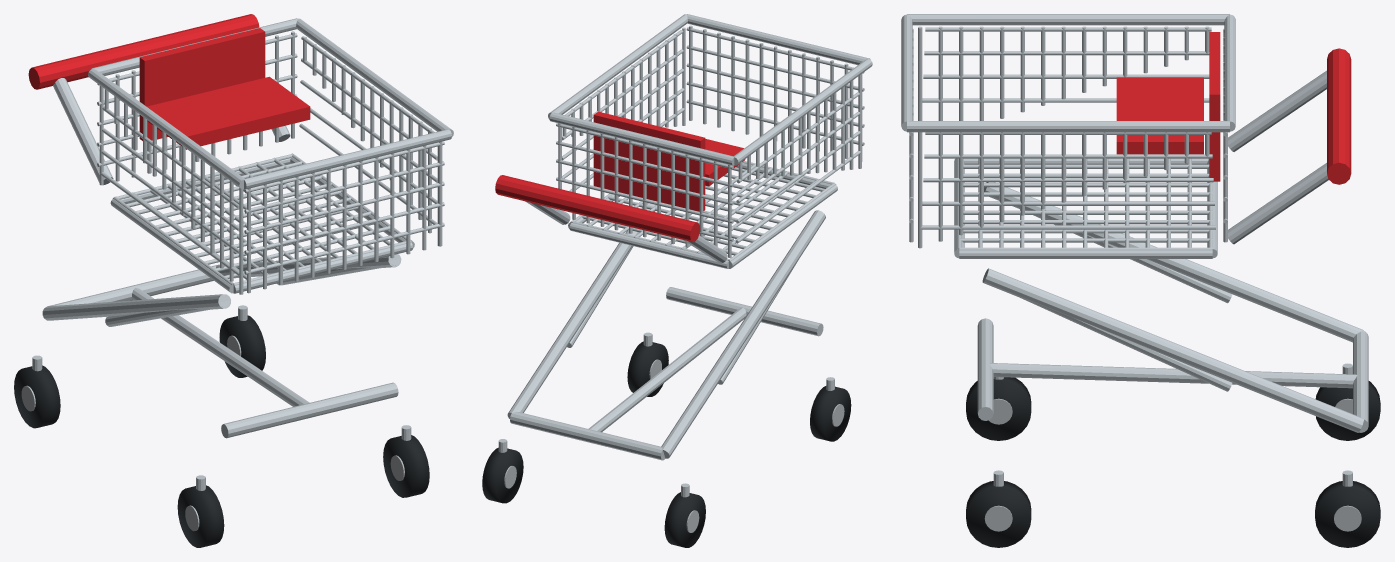
Rendered from carrito.glb.
3 views of the same model, side by side, from view 1: azimuth 30°, elevation 25°; view 2: azimuth 150°, elevation 25°; view 3: azimuth 270°, elevation 25° (orthographic). The views are drawn at different scales.
Parts seen in each view (by area): view 1: Respaldo_Infantil, Asiento_Infantil, Manubrio_Rojo, Chasis_Frontal, Chasis_Lateral, Borde_Superior_Extremo, Chasis_Central, Rueda_FR, Borde_Superior_Lateral, Rueda_BL, Rueda_FL, Borde_Superior_Lateral.001 (+27 smaller); view 2: Respaldo_Infantil, Manubrio_Rojo, Chasis_Lateral, Chasis_Lateral.001, Chasis_Central, Chasis_Trasero, Borde_Superior_Extremo.001, Chasis_Frontal, Borde_Superior_Extremo, Rueda_BR, Borde_Superior_Lateral, Rueda_BL (+22 smaller); view 3: Chasis_Lateral.001, Asiento_Infantil, Chasis_Lateral, Chasis_Central, Borde_Superior_Lateral.001, Borde_Superior_Lateral, Manubrio_Rojo, Rueda_BR, Rueda_FR, Rueda_FL, Borde_Inferior_Lateral.001, Soporte_Manubrio_Der (+31 smaller).
Boxes of the visible parts, x1,y1,x2,y2 form: Respaldo_Infantil: (139,28,265,140); Asiento_Infantil: (147,76,310,149); Manubrio_Rojo: (28,14,259,89); Chasis_Frontal: (221,382,398,438); Chasis_Lateral: (42,294,230,320); Borde_Superior_Extremo: (244,129,451,189); Chasis_Central: (132,288,309,406); Rueda_FR: (383,435,429,497); Borde_Superior_Lateral: (88,69,244,189); Rueda_BL: (14,365,60,428); Rueda_FL: (177,485,224,547); Borde_Superior_Lateral.001: (296,18,453,136); Respaldo_Infantil: (593,111,705,211); Manubrio_Rojo: (495,175,700,242); Chasis_Lateral: (661,210,825,458); Chasis_Lateral.001: (507,203,655,418); Chasis_Central: (588,307,746,432); Chasis_Trasero: (510,412,665,460); Borde_Superior_Extremo.001: (549,112,734,165); Chasis_Frontal: (666,287,823,336); Borde_Superior_Extremo: (686,14,870,65); Rueda_BR: (482,447,523,503); Borde_Superior_Lateral: (733,59,872,165); Rueda_BL: (664,492,705,547); Chasis_Lateral.001: (982,268,1363,432); Asiento_Infantil: (1116,77,1203,154); Chasis_Lateral: (984,182,1363,342); Chasis_Central: (989,363,1357,388); Borde_Superior_Lateral.001: (907,121,1229,132); Borde_Superior_Lateral: (907,14,1229,25); Manubrio_Rojo: (1327,48,1351,184); Rueda_BR: (1315,481,1380,547); Rueda_FR: (966,481,1031,547); Rueda_FL: (966,377,1031,440); Borde_Inferior_Lateral.001: (959,250,1212,258); Soporte_Manubrio_Der: (1228,163,1328,244).
Bounding box in the file's own units: 0.632 × 1.08 × 1.1.
